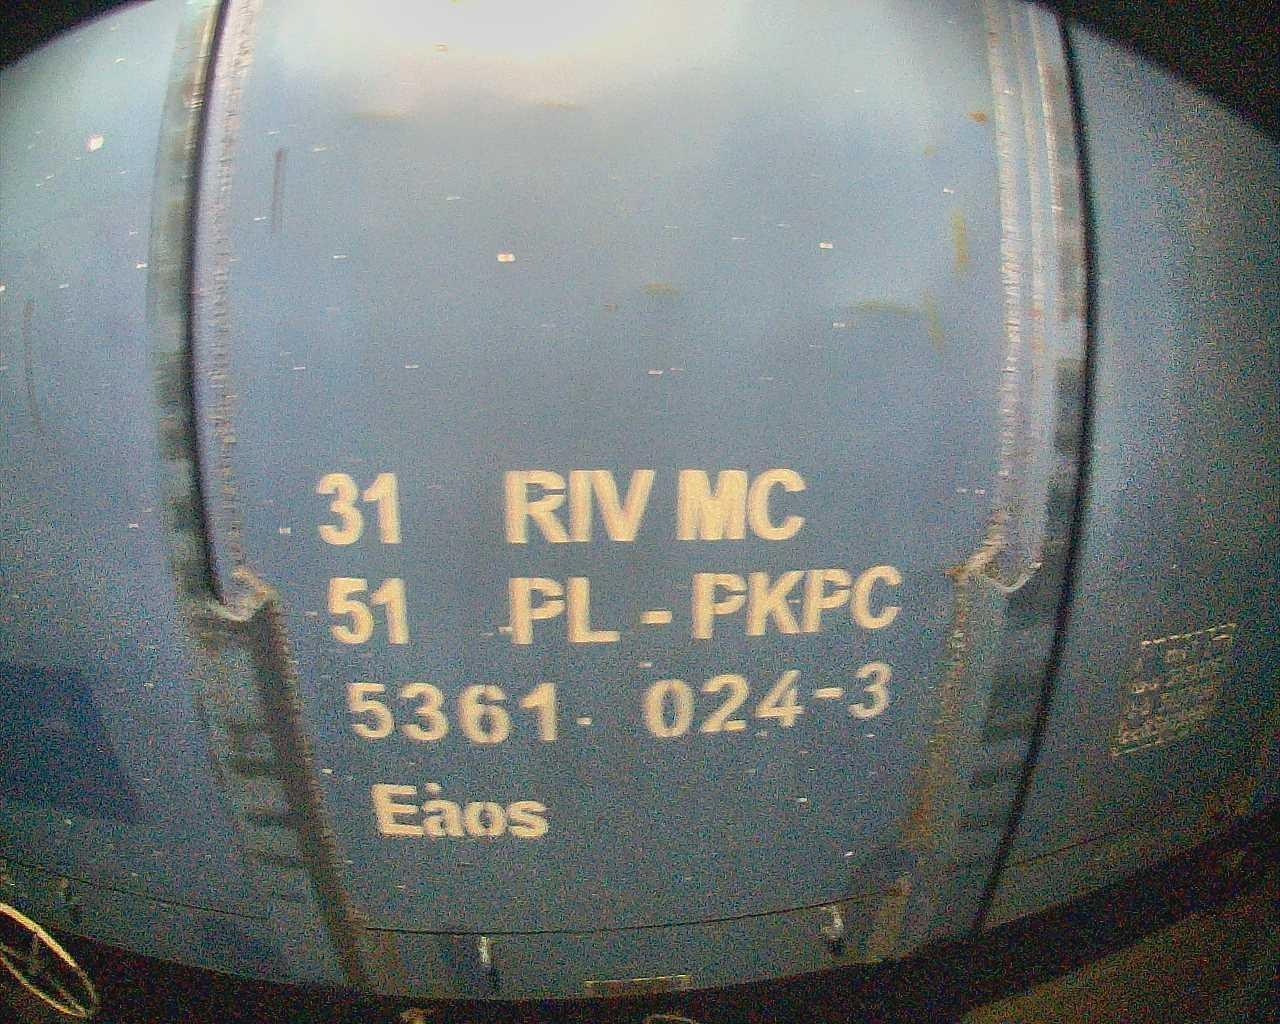UIC: (315, 463, 901, 841)
